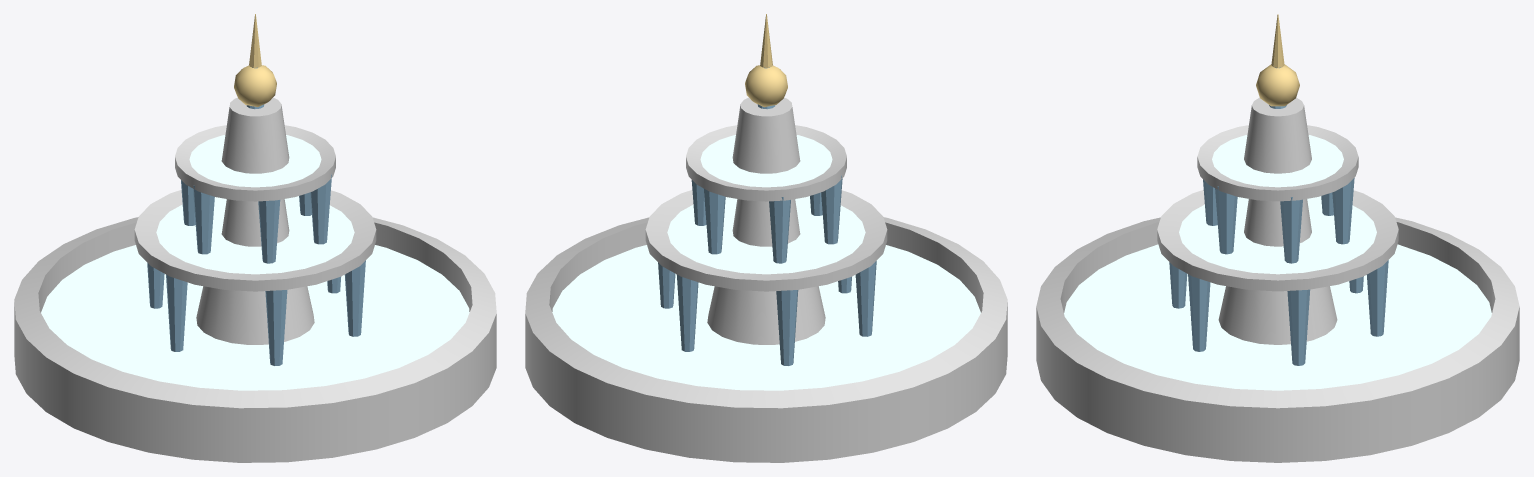
Rendered from ench_fountain.fbx.
The picture shows the model from 3 angles, left to right: view 1: azimuth 30°, elevation 25°; view 2: azimuth 150°, elevation 25°; view 3: azimuth 270°, elevation 25°; orthographic projection.
Parts seen in each view (by area): view 1: stonepale_1, water_1, spray_1, gold_1; view 2: stonepale_1, water_1, spray_1, gold_1; view 3: stonepale_1, water_1, spray_1, gold_1.
Part boxes in pixels (x1,y1,x2,y2): stonepale_1: [14, 97, 496, 462]; water_1: [41, 135, 469, 390]; spray_1: [147, 67, 365, 365]; gold_1: [234, 14, 276, 107]; stonepale_1: [525, 97, 1007, 462]; water_1: [552, 135, 980, 390]; spray_1: [658, 67, 876, 365]; gold_1: [745, 14, 787, 107]; stonepale_1: [1036, 97, 1519, 462]; water_1: [1064, 135, 1491, 390]; spray_1: [1169, 67, 1388, 365]; gold_1: [1256, 14, 1299, 106].
Bounding box in the file's own units: 1.2 × 0.95 × 1.2.
